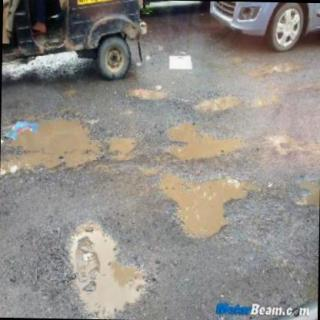pothole: (68, 221, 148, 316), (160, 174, 249, 239), (0, 119, 98, 175), (164, 123, 249, 159), (268, 135, 320, 161), (195, 96, 242, 115), (108, 136, 138, 162), (298, 176, 320, 207), (127, 88, 172, 101), (270, 63, 309, 75), (254, 93, 283, 108)
